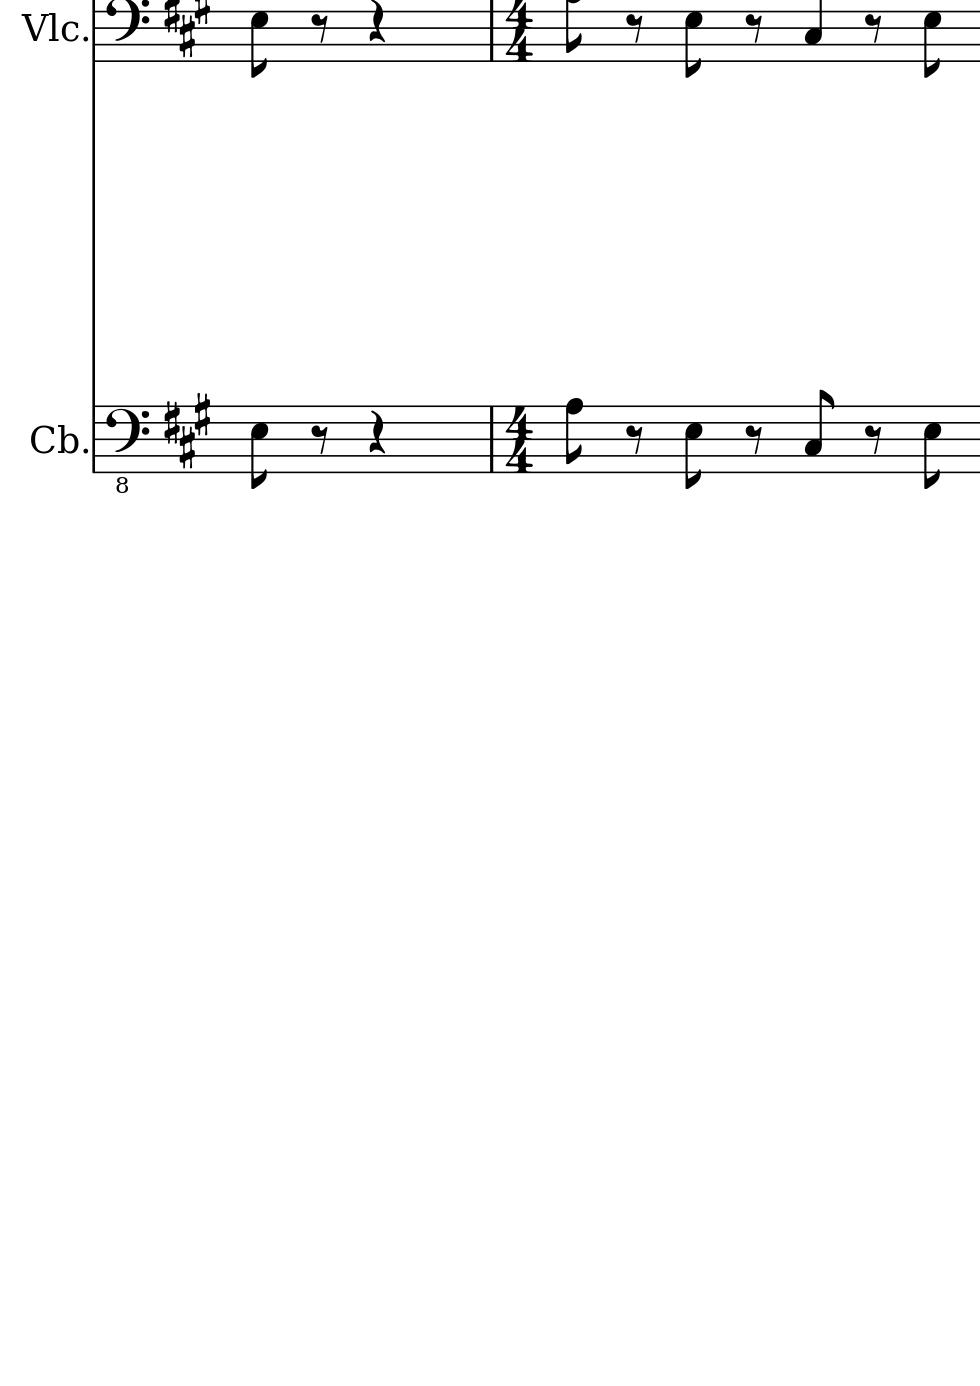4: (504, 405, 535, 440), (503, 29, 533, 62), (505, 440, 533, 473), (504, 1, 533, 29)
8_3: (803, 388, 835, 475)
8_5: (682, 403, 705, 490), (921, 403, 943, 490), (248, 404, 270, 490)
8_8: (562, 397, 585, 475)
A_S: (161, 392, 214, 470), (161, 1, 213, 58)
Cb: (28, 422, 78, 456)
Fclef: (104, 1, 150, 64)
Lower_Fclef: (104, 403, 150, 494)
Rests4: (366, 408, 386, 456), (366, 1, 386, 43)
Rests8: (308, 12, 331, 45), (742, 12, 766, 45), (862, 423, 886, 456), (624, 11, 646, 45), (862, 11, 885, 45), (309, 423, 331, 456), (624, 422, 646, 455), (743, 423, 766, 455)
Single_barline: (482, 1, 498, 62), (87, 1, 102, 62), (87, 406, 100, 473)
TimeSig: (503, 406, 535, 476)
Vlc: (19, 7, 78, 48)
